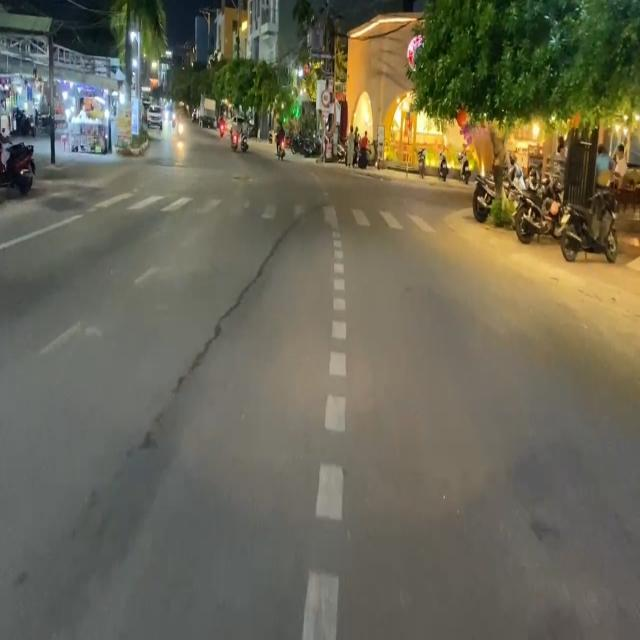walk-crossing: (63, 193, 464, 232)
